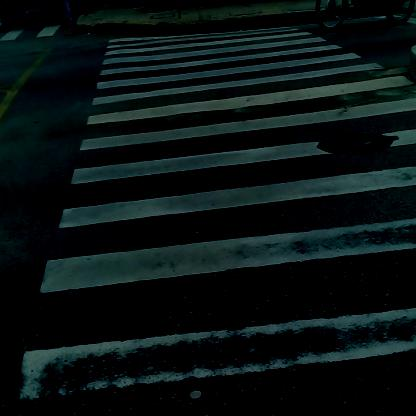crosswalk: (85, 37, 416, 416)
sidewalk: (73, 2, 364, 51)
